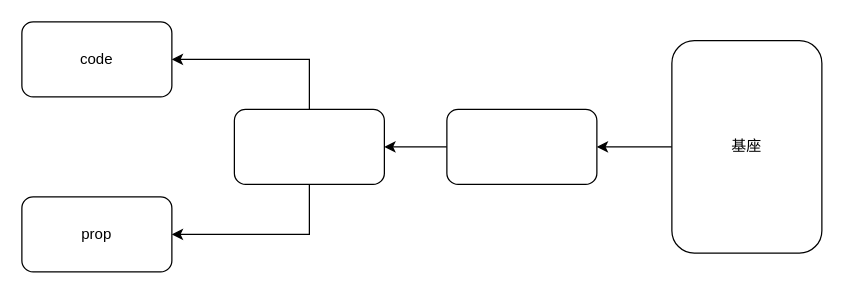
Some shapes in this 844 by 294 pixel diagram are drawn without their labels. Here are the shapes that lost their labels. From the top down, the box of each, then its label:
(233, 108, 384, 184): setting.json
(446, 108, 597, 184): vivo_base
